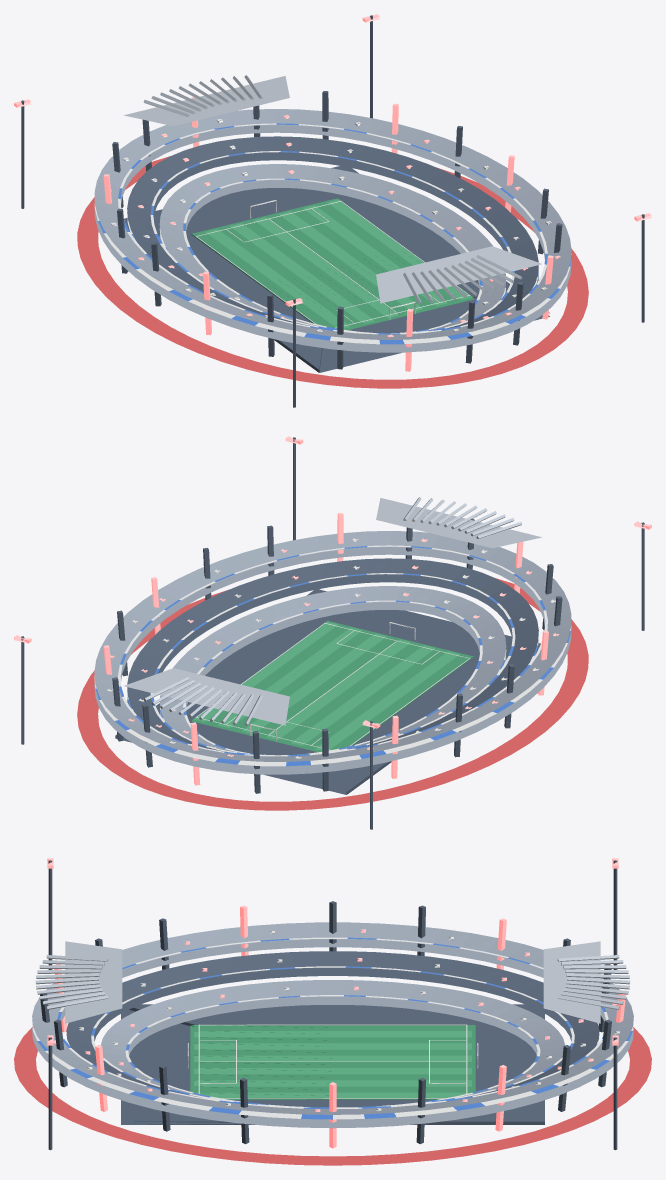
Rendered from ajinomoto-stadium.glb.
3 views of the same model, one above another, from view 1: azimuth 30°, elevation 25°; view 2: azimuth 150°, elevation 25°; view 3: azimuth 270°, elevation 25° (orthographic). The views are drawn at different scales.
Visible parts, largest first — view 1: Ajinomoto Stadium; view 2: Ajinomoto Stadium; view 3: Ajinomoto Stadium.
Part boxes in pixels (x1,y1,x2,y2): Ajinomoto Stadium: (14,14,651,407); Ajinomoto Stadium: (14,436,651,829); Ajinomoto Stadium: (14,858,651,1165).
Size of the model in its own units: 67.25 by 17.65 by 87.27.
